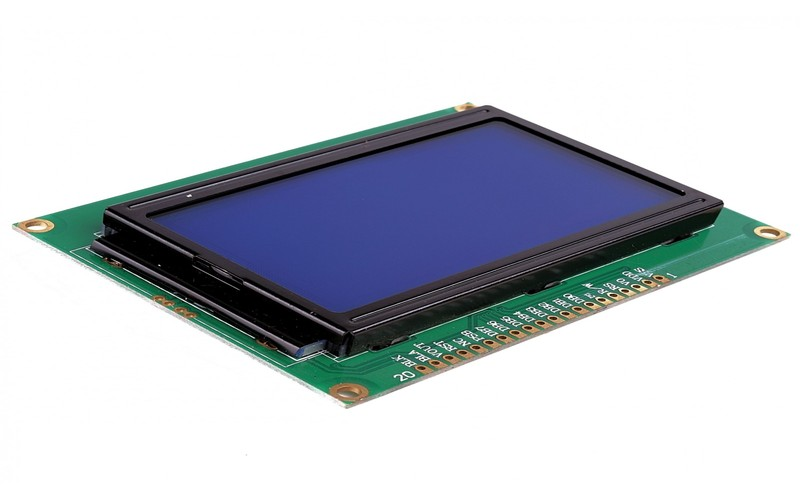LCD: (91, 98, 737, 367)
